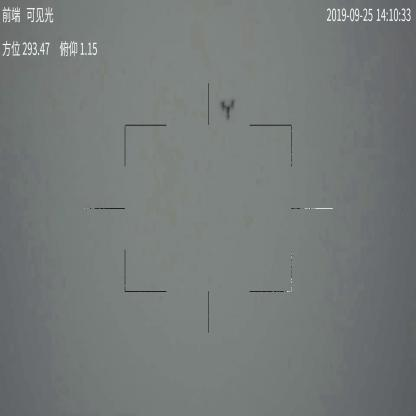uav: (219, 96, 238, 121)
